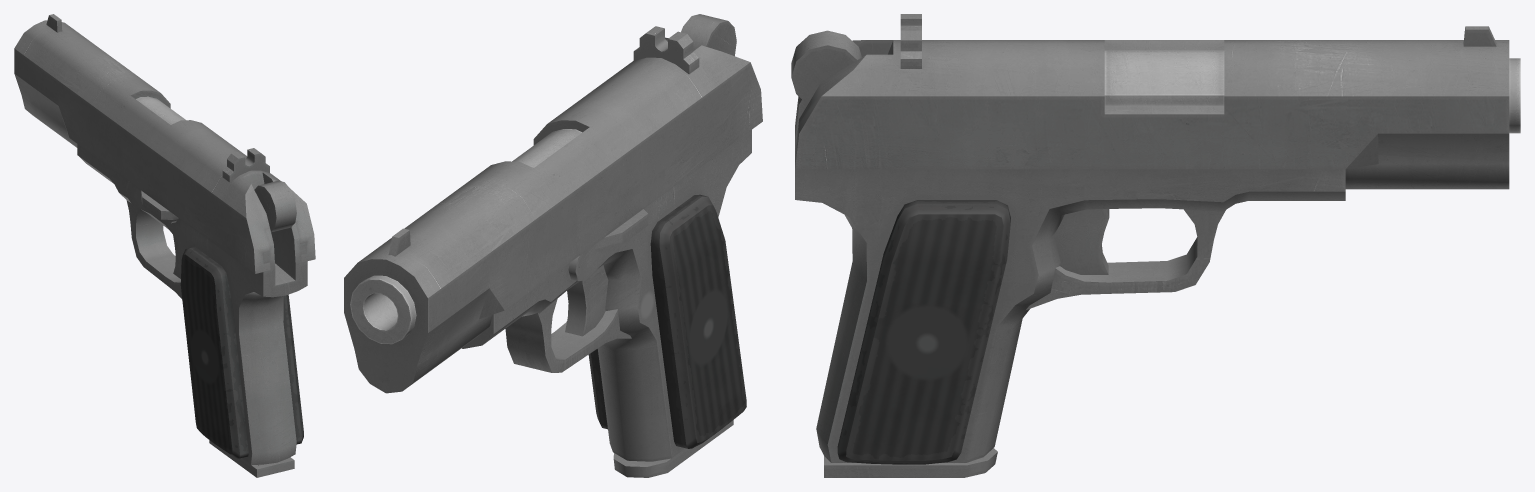
Rendered from IG_Gun_TT33.fbx.
3 views of the same model, side by side, from view 1: azimuth 30°, elevation 25°; view 2: azimuth 150°, elevation 25°; view 3: azimuth 270°, elevation 25° (orthographic). The views are drawn at different scales.
Visible parts, largest first — view 1: Pfb_WPN_TT33; view 2: Pfb_WPN_TT33; view 3: Pfb_WPN_TT33.
Part boxes in pixels (<box>): Pfb_WPN_TT33: <box>14,14,315,477</box>; Pfb_WPN_TT33: <box>344,14,762,477</box>; Pfb_WPN_TT33: <box>791,14,1520,477</box>.
Bounding box in the file's own units: 0.0736 × 0.2918 × 0.4363.
